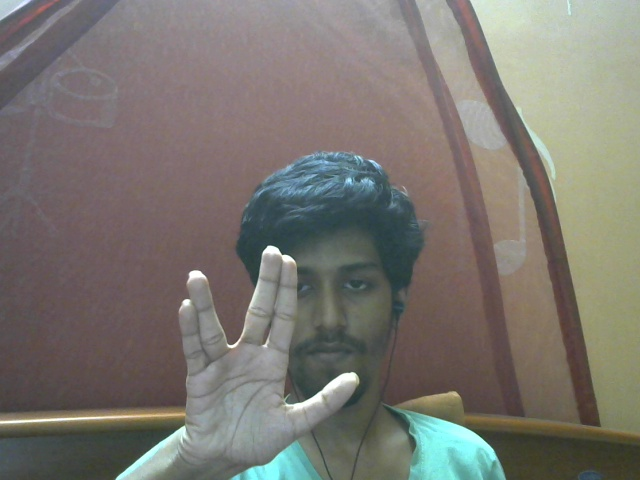LiveLong: (177, 245, 360, 471)
